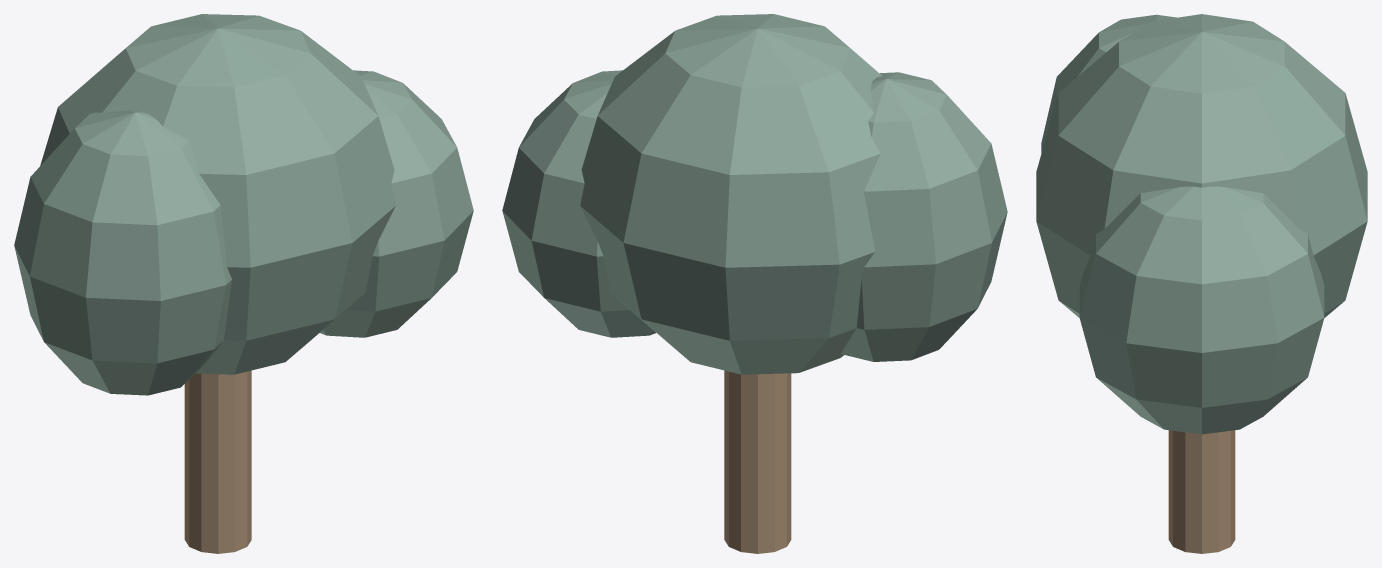
The model's file is swamp_tree.glb.
3 renders of one model, left to right at view 1: azimuth 30°, elevation 25°; view 2: azimuth 150°, elevation 25°; view 3: azimuth 270°, elevation 25°, orthographic.
Parts seen in each view (by area): view 1: canopy (×3), trunk; view 2: canopy (×3), trunk; view 3: canopy (×3), trunk.
Part boxes in pixels (x1,y1,x2,y2): canopy (×3): (14,14,473,395); trunk: (184,370,251,553); canopy (×3): (502,14,1007,374); trunk: (724,370,791,553); canopy (×3): (1036,14,1367,434); trunk: (1168,430,1235,553).
Size of the model in its own units: 3.4 by 3.7 by 2.19.
